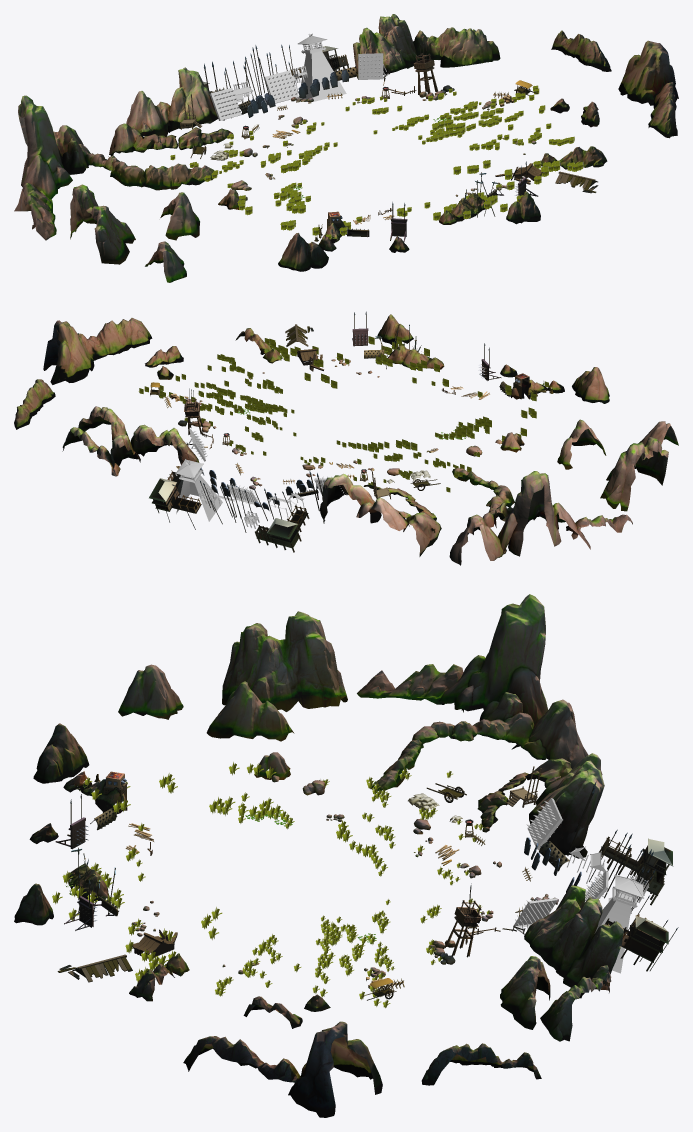
File: Battlefield.FBX
The picture shows the model from 3 angles, top to bottom: view 1: azimuth 30°, elevation 25°; view 2: azimuth 150°, elevation 25°; view 3: azimuth 270°, elevation 25°; orthographic projection. The views are drawn at different scales.
Visible parts, largest first — view 1: Sce_bf_shan, Sce_bf_wujian, Grass0173; view 2: Sce_bf_shan, Sce_bf_wujian, Grass0173; view 3: Sce_bf_shan, Sce_bf_wujian, Grass0173.
Boxes of the visible parts, x1,y1,x2,y2 form: Sce_bf_shan: (14,14,678,282); Sce_bf_wujian: (180,33,598,241); Grass0173: (170,85,583,242); Sce_bf_shan: (14,314,678,565); Sce_bf_wujian: (149,311,553,552); Grass0173: (138,336,548,492); Sce_bf_shan: (14,594,623,1117); Sce_bf_wujian: (55,766,678,1000); Grass0173: (52,762,490,1008).
Bounding box in the file's own units: 3445 × 575 × 2264.
